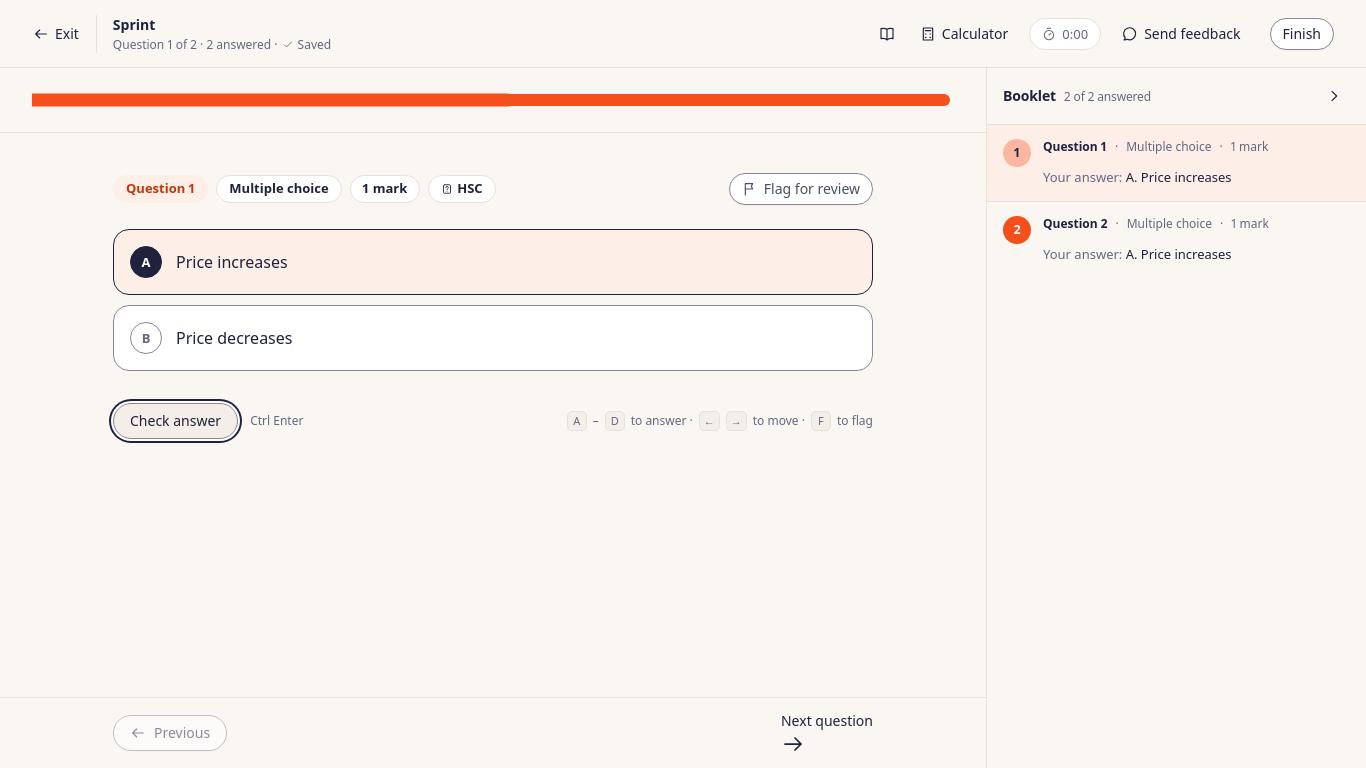
Test: keeps the reminder after a marking error and lets the student retry
Click the button "Check answer": (176, 421) [113,403,238,439]
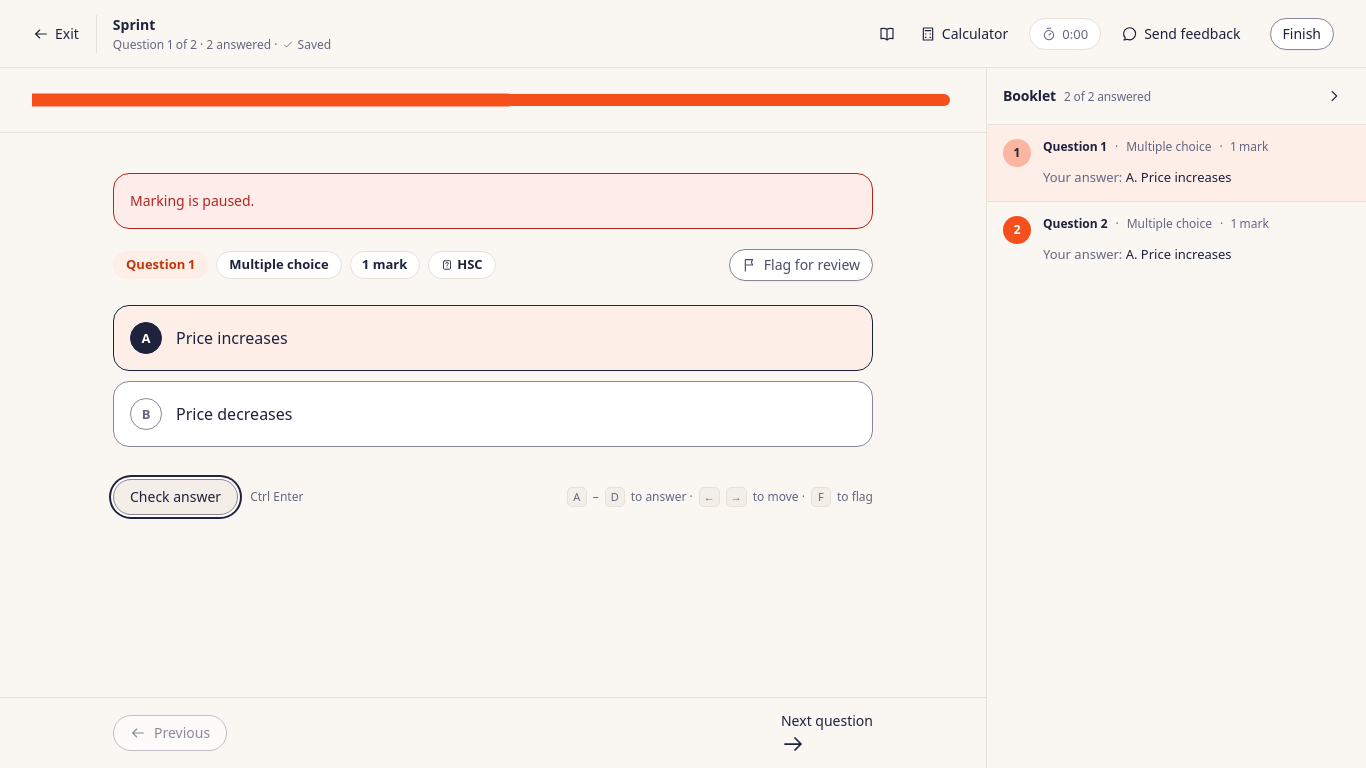
Expected: the button "Next question" is enabled, [781,710,873,756]
Result: the message "Marking is paused." is shown at [113,173,873,229]
